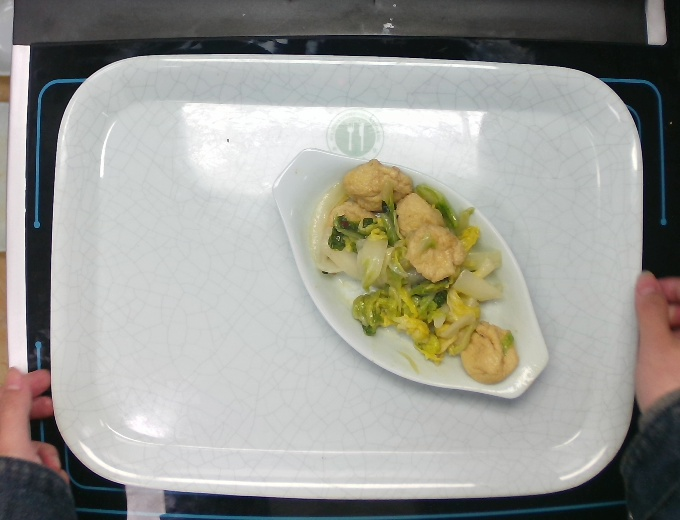JYsf-Yu_Pan: (266, 134, 555, 403)
